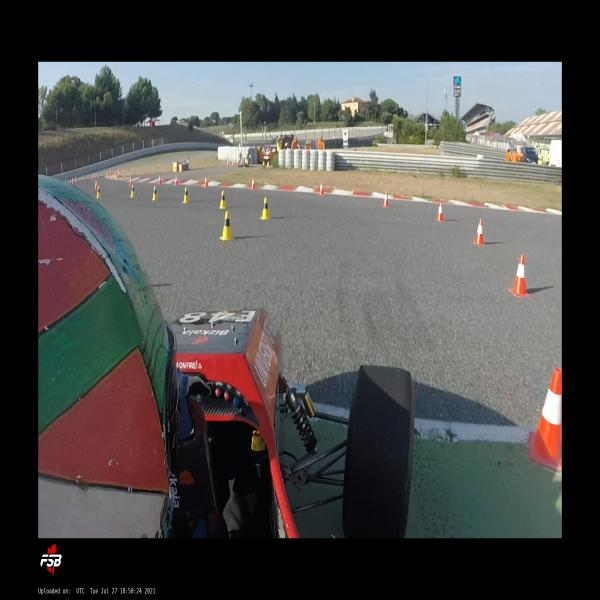orange_cone: (526, 367, 562, 469), (509, 254, 530, 298), (473, 219, 485, 246), (435, 201, 445, 223), (382, 191, 390, 208), (250, 176, 256, 189), (204, 176, 209, 188), (320, 182, 324, 195), (174, 176, 179, 186), (94, 180, 98, 190), (129, 177, 133, 187), (158, 176, 162, 185), (106, 171, 109, 177), (94, 173, 97, 178), (119, 171, 121, 178), (72, 178, 74, 184), (92, 174, 94, 180), (110, 170, 112, 175)
yellow_cone: (219, 210, 234, 241), (259, 196, 271, 220), (218, 190, 228, 209), (182, 186, 190, 204), (152, 185, 159, 201), (130, 184, 136, 198), (96, 186, 102, 198), (114, 173, 118, 179), (75, 176, 77, 182), (82, 175, 84, 180)
